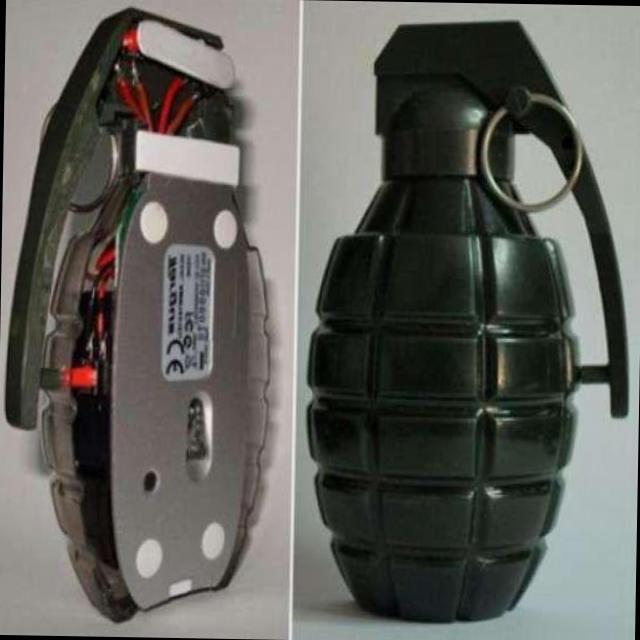grenade: (297, 7, 635, 628)
